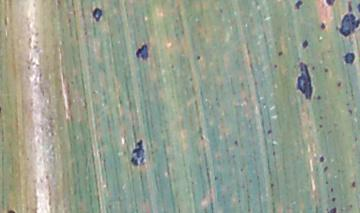tarspot: (337, 1, 360, 37), (295, 62, 313, 101), (131, 140, 145, 168), (137, 44, 149, 59), (92, 8, 103, 22), (343, 53, 355, 64), (294, 1, 304, 11), (326, 206, 337, 213), (233, 139, 241, 147), (302, 39, 308, 49), (326, 1, 336, 7), (320, 22, 326, 31), (318, 156, 325, 163), (266, 128, 273, 135), (350, 181, 356, 189), (322, 165, 328, 173), (348, 108, 353, 117), (272, 63, 279, 69), (316, 94, 322, 101), (337, 81, 343, 88), (317, 123, 324, 129), (7, 209, 16, 213), (196, 54, 202, 60), (278, 51, 284, 57), (324, 67, 330, 73), (331, 196, 337, 202), (330, 187, 334, 192)
